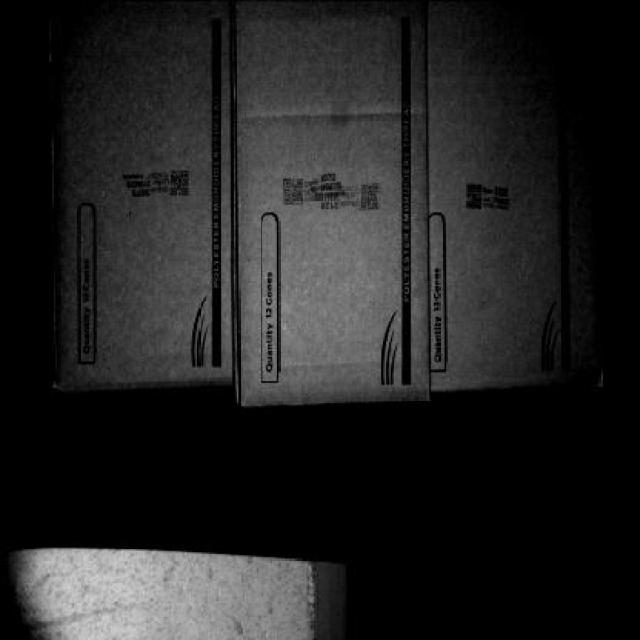cardboxes: (240, 0, 434, 400), (50, 0, 235, 380), (433, 6, 605, 389)
